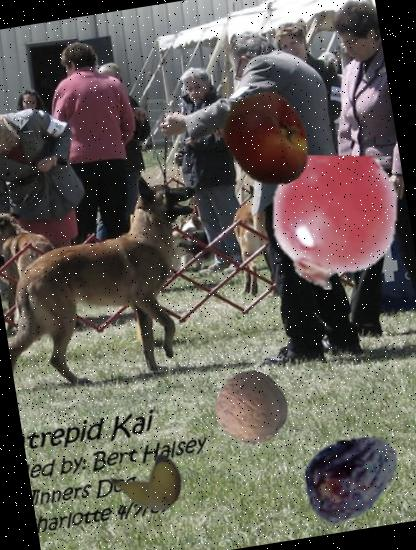Banana: (116, 446, 188, 518)
Dates: (297, 424, 408, 535)
Nectarine: (212, 84, 324, 196)
Redcurrant: (258, 146, 411, 299)
Walnut: (210, 365, 294, 449)
